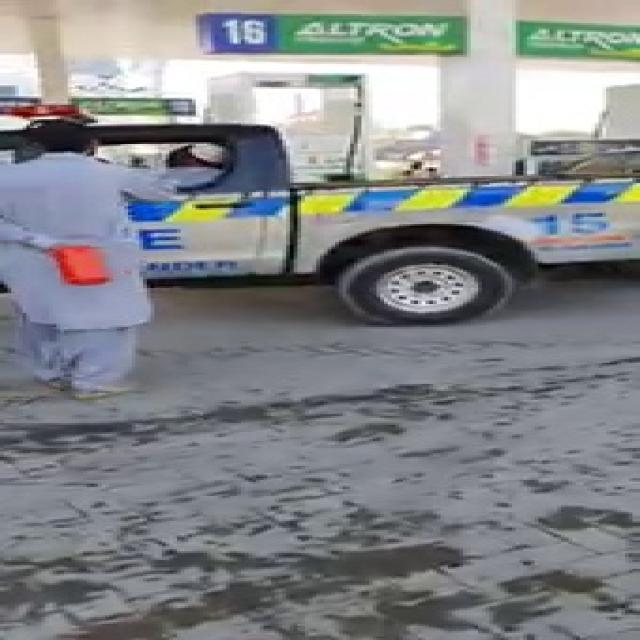police: (0, 129, 640, 315)
